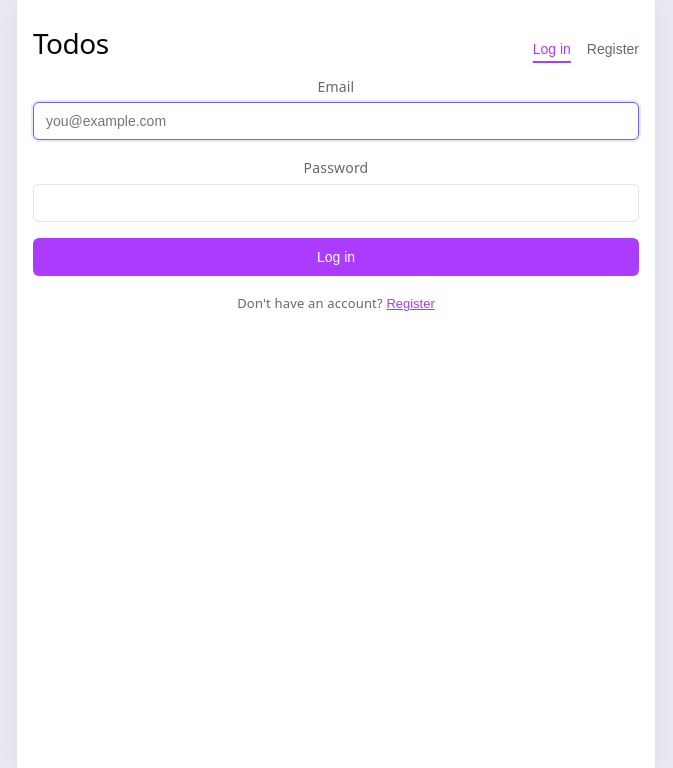
Test: App auth routing › no auth token in localStorage › Log in nav button click from register › shows the login form
Step 1. Click the button "Register" in the row of "Todos" → (613, 49), box [587, 41, 639, 57]
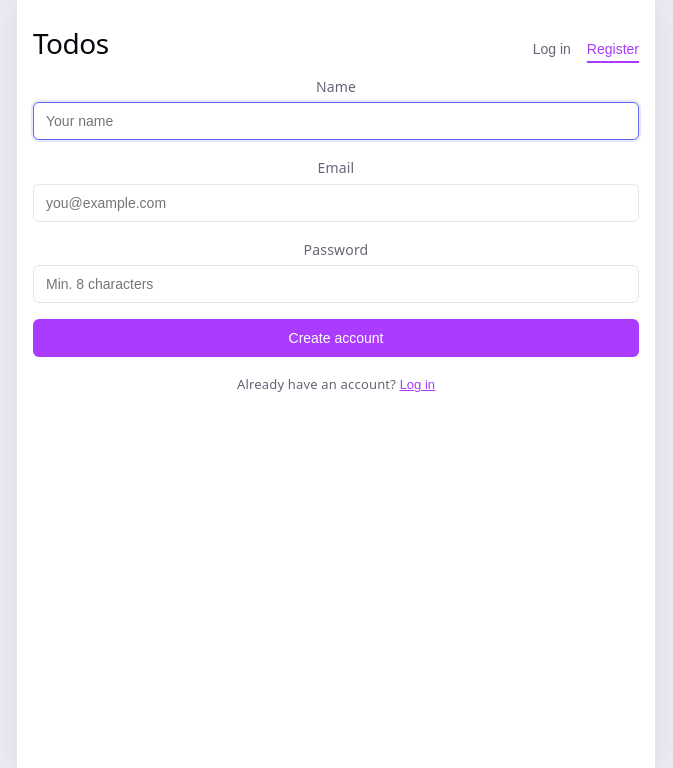
Result: the field labelled "Name" is shown at [33, 102, 639, 140]
Step 2. Click the button "Log in" in the row of "Todos" → (552, 49), box [533, 41, 571, 57]
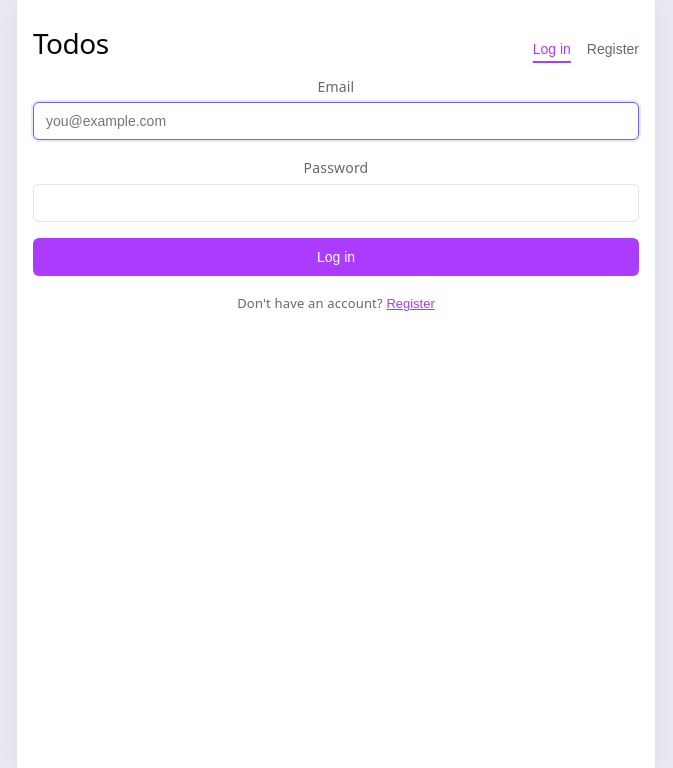
Result: the label labelled "Name" is gone
Result: the field labelled "Email" is shown at [33, 102, 639, 140]
